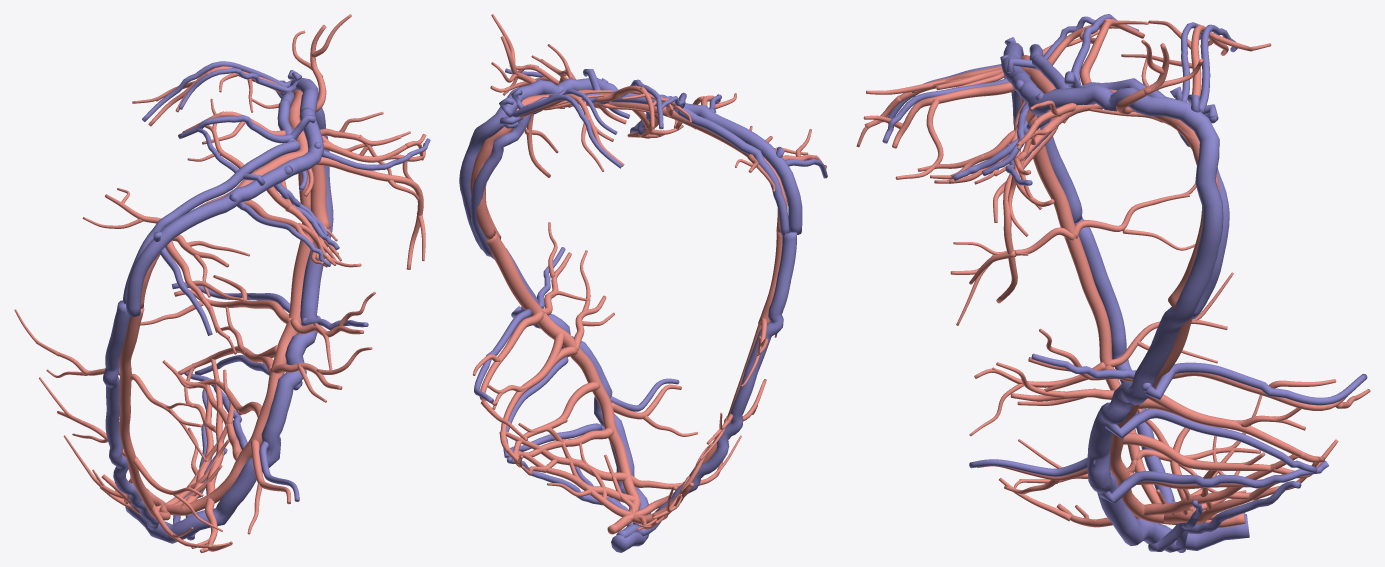
Rendered from vessels_54.glb.
3 renders of one model, left to right at view 1: azimuth 30°, elevation 25°; view 2: azimuth 150°, elevation 25°; view 3: azimuth 270°, elevation 25°, orthographic. The views are drawn at different scales.
Parts seen in each view (by area): view 1: Renderer Node; view 2: Renderer Node; view 3: Renderer Node.
Part boxes in pixels (x1=…): Renderer Node: x1=14, y1=14, x2=430, y2=552; Renderer Node: x1=459, y1=14, x2=827, y2=552; Renderer Node: x1=856, y1=14, x2=1370, y2=552.
Bounding box in the file's own units: 87.45 × 120 × 90.89.
